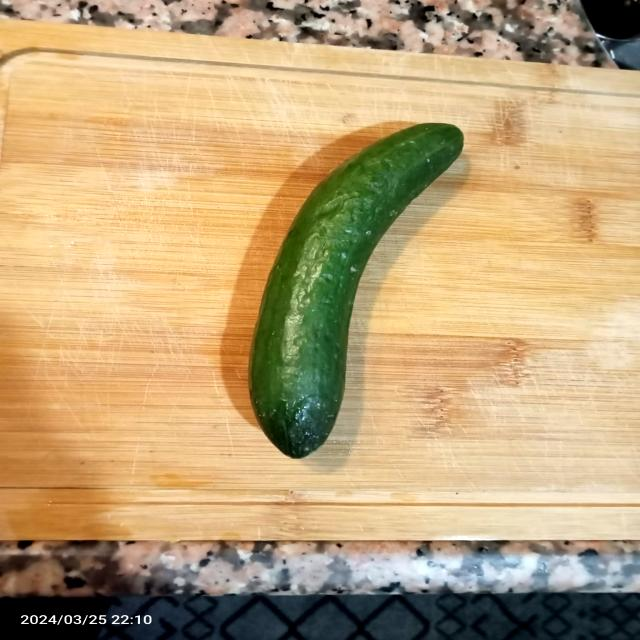cucumber: (211, 94, 497, 468)
